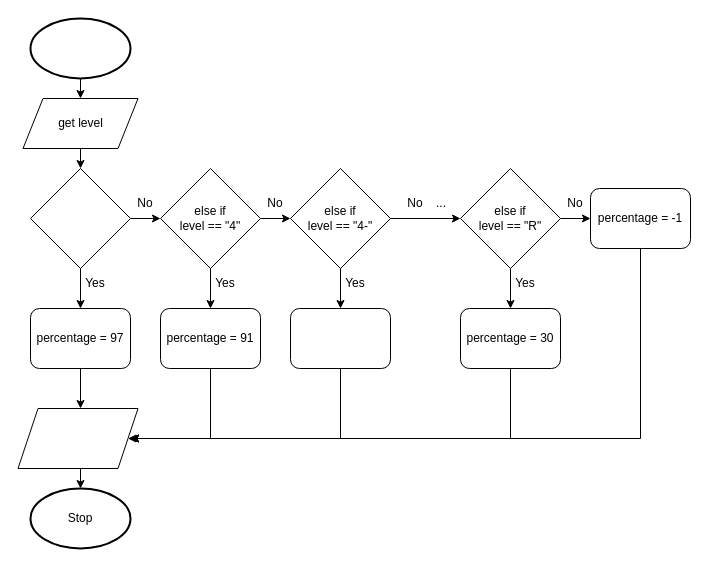
This 708x566 diagram has some shape labels left out. Each missing label, with the box of its shape:
if level == "4+": (30, 168, 130, 268)
percentage = 83: (290, 308, 390, 368)
return percentage: (17, 408, 138, 468)
start: (29, 17, 131, 79)
